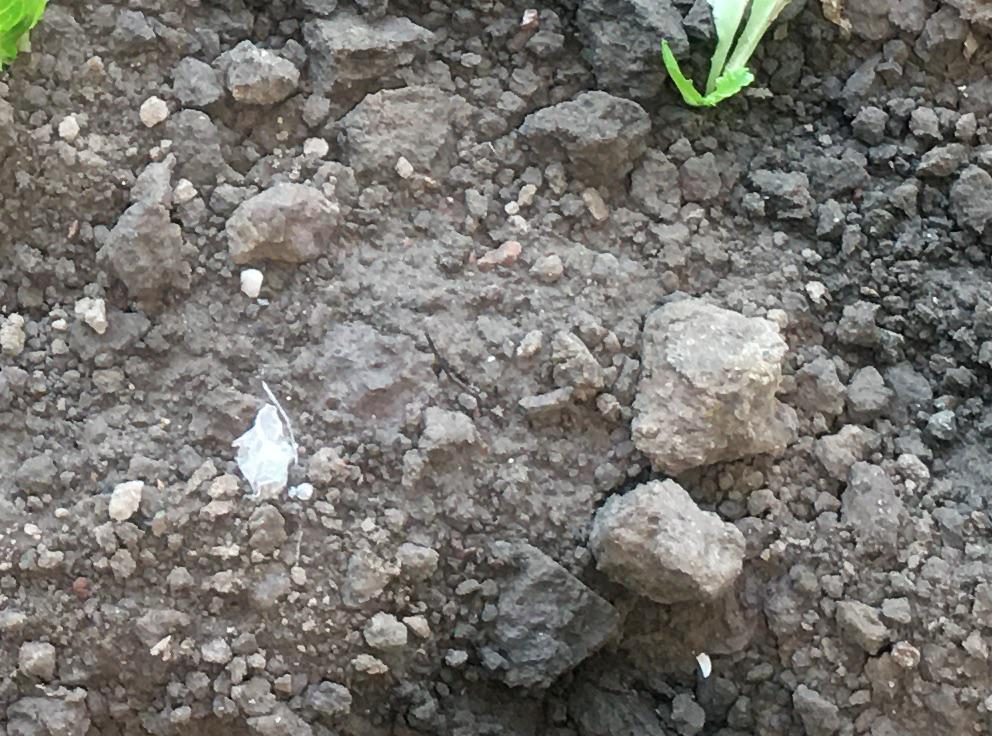block: (636, 297, 796, 480), (587, 475, 743, 602), (522, 86, 644, 180), (107, 194, 199, 304), (224, 189, 339, 266)
